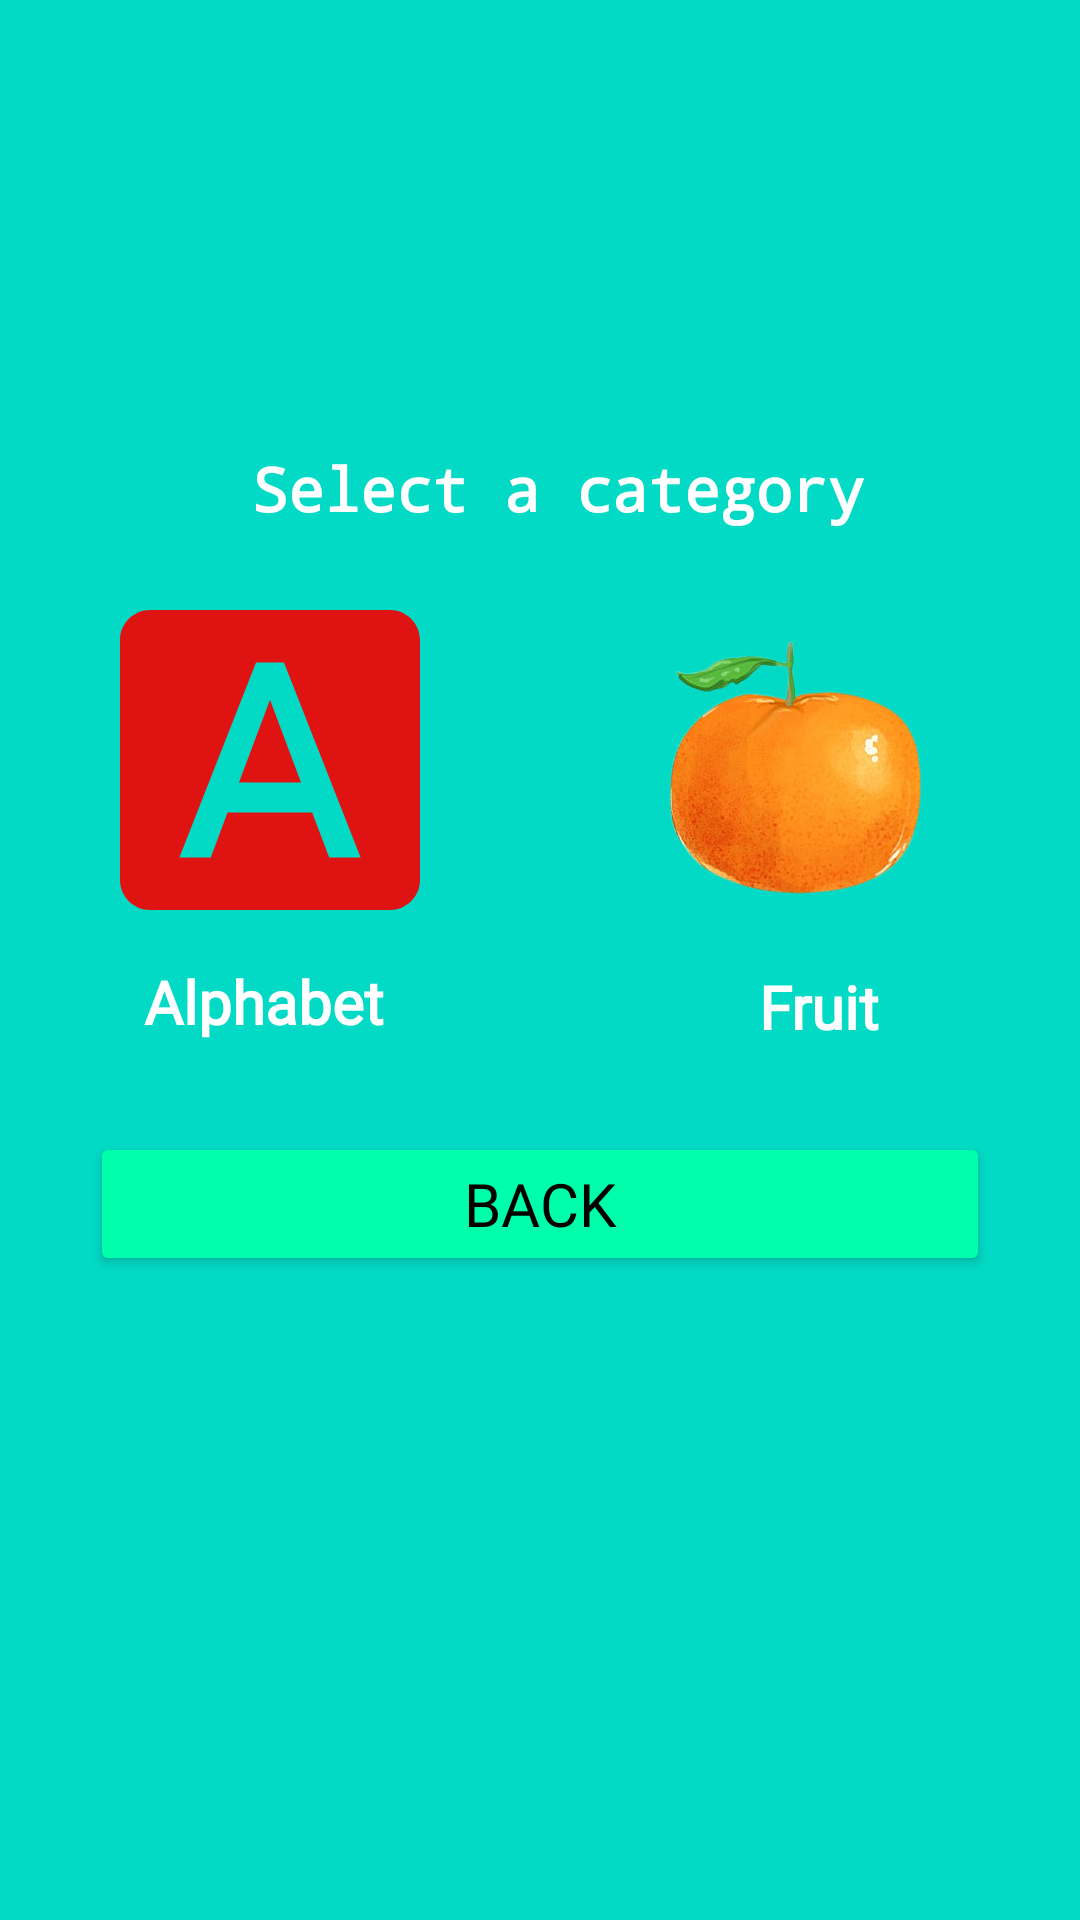

Screen size 1080×1920. Icon name, then its center in pixels as [x,y]:
jeruk: [795,767]
